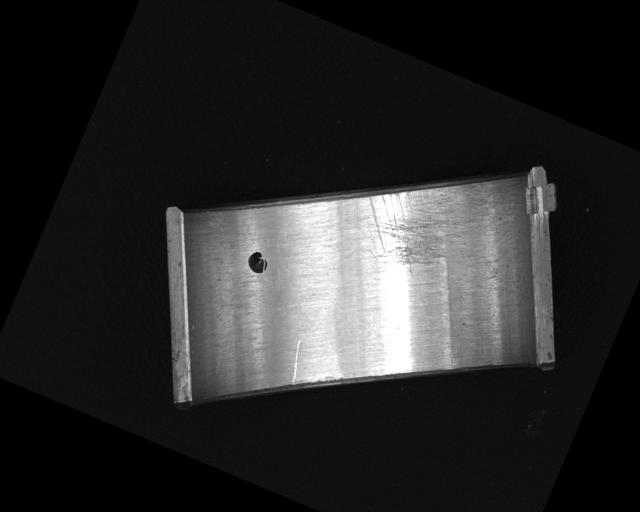blot: (243, 248, 272, 277)
nick: (282, 339, 311, 384)
scratch: (348, 144, 490, 289)
